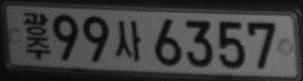3: (185, 19, 212, 66)
5: (218, 20, 245, 68)
6: (154, 18, 182, 65)
7: (247, 21, 275, 68)
9: (53, 13, 78, 60), (83, 15, 108, 62)
광주_V: (23, 11, 50, 60)
사: (115, 20, 141, 61)
